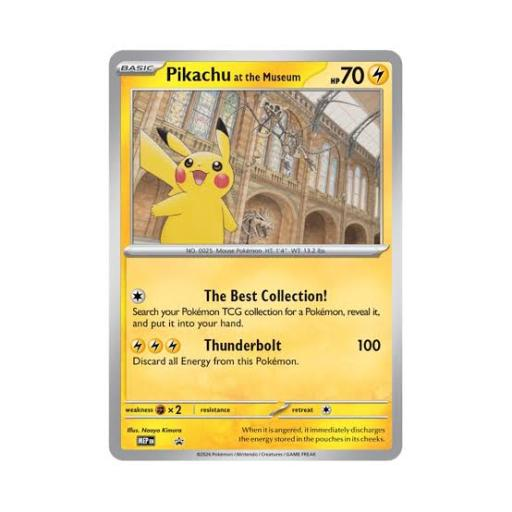Pikachu: (140, 116, 240, 244)
